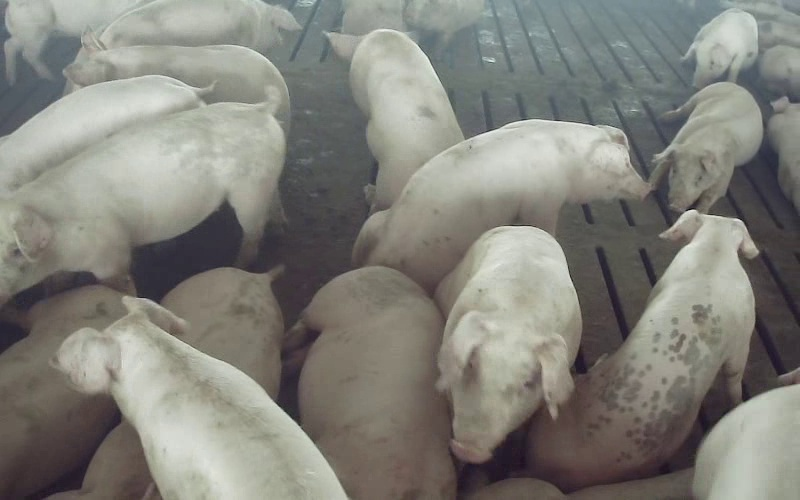pig: (527, 210, 757, 490), (51, 297, 346, 499), (0, 103, 284, 303), (352, 120, 650, 292), (284, 267, 455, 499), (435, 226, 581, 462), (0, 285, 125, 499), (0, 75, 210, 195), (64, 32, 289, 132), (649, 82, 762, 212), (99, 0, 300, 51), (682, 8, 757, 88)
